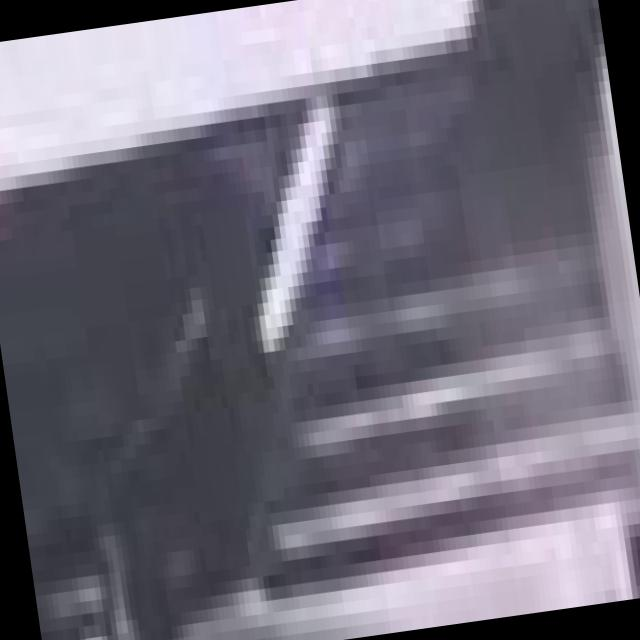stick: (210, 77, 392, 379)
